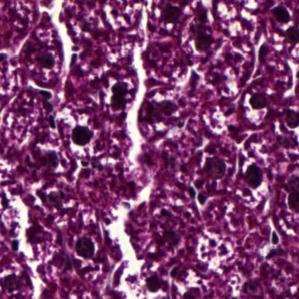inflammation: (102, 72, 139, 115), (64, 121, 101, 158), (240, 155, 270, 199), (241, 89, 272, 127), (70, 233, 103, 263)
